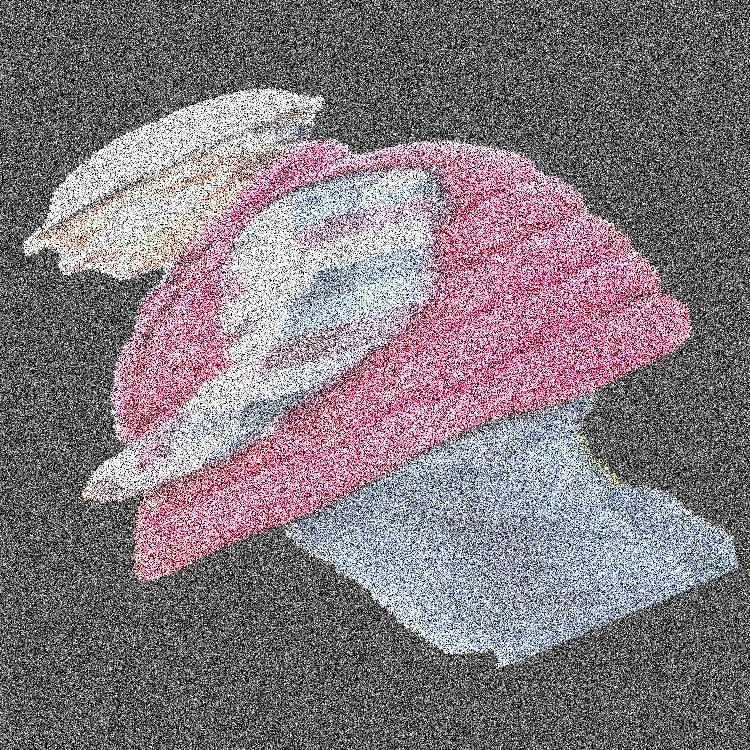Pessoa: (233, 0, 622, 749)
